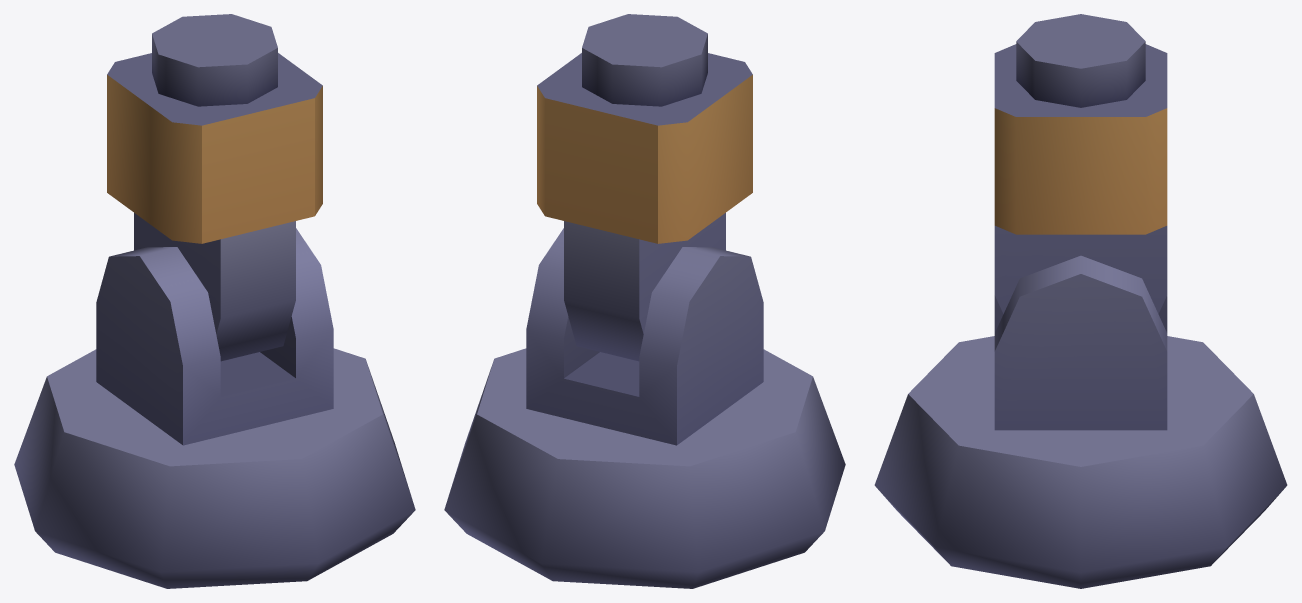
The model's file is crane-magnet.glb.
3 renders of one model, left to right at view 1: azimuth 30°, elevation 25°; view 2: azimuth 150°, elevation 25°; view 3: azimuth 270°, elevation 25°, orthographic.
Parts seen in each view (by area): view 1: crane-magnet; view 2: crane-magnet; view 3: crane-magnet.
Boxes of the visible parts, x1,y1,x2,y2 form: crane-magnet: [14, 14, 415, 588]; crane-magnet: [444, 14, 845, 588]; crane-magnet: [874, 14, 1287, 588].
Bounding box in the file's own units: 0.7167 × 0.9 × 0.7167.
